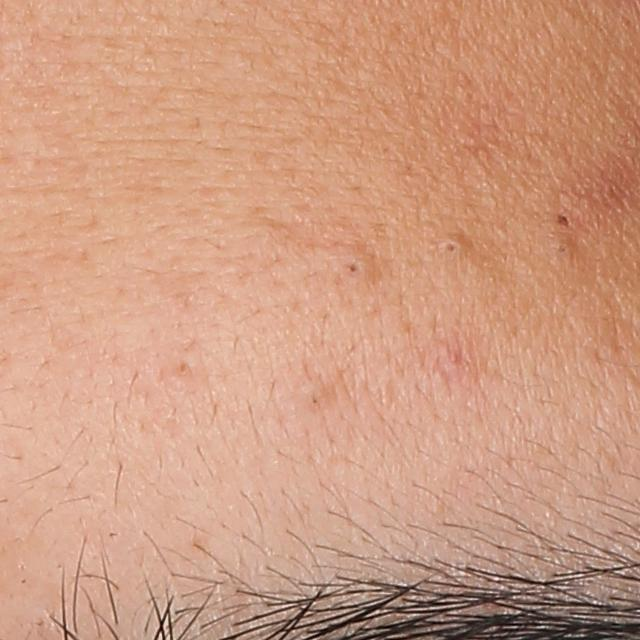comedo: (334, 251, 377, 286), (434, 233, 467, 262), (174, 360, 192, 380), (555, 210, 573, 228)
